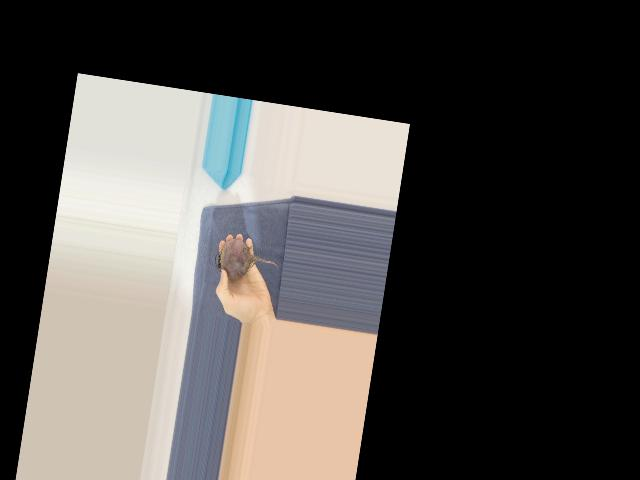beet: (212, 235, 282, 285)
